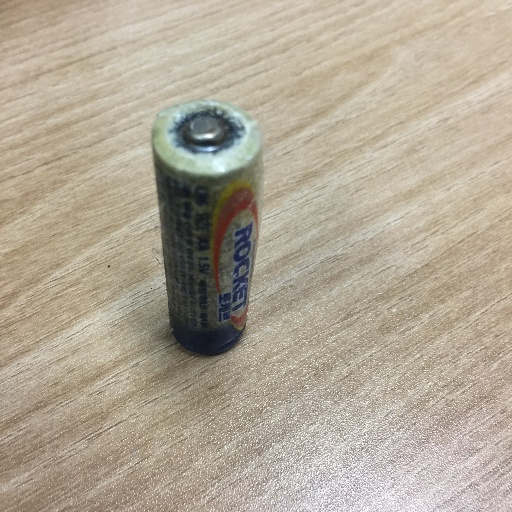Battery_0: (148, 94, 272, 367)
